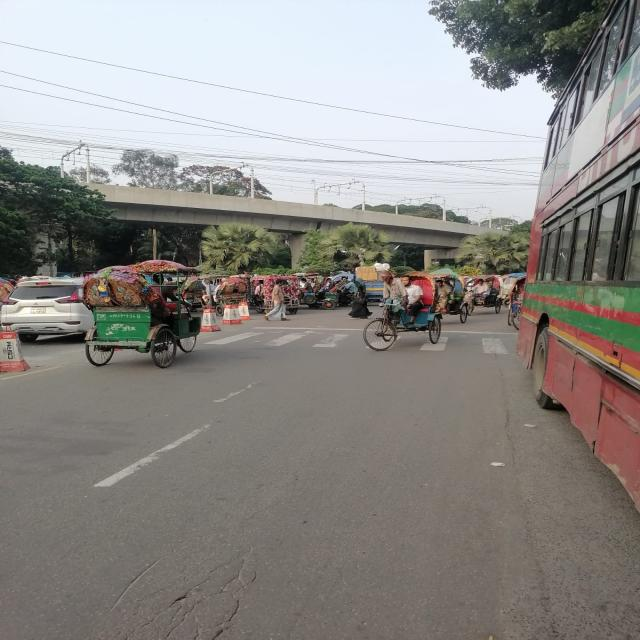person: (264, 279, 289, 321), (348, 278, 372, 320)
